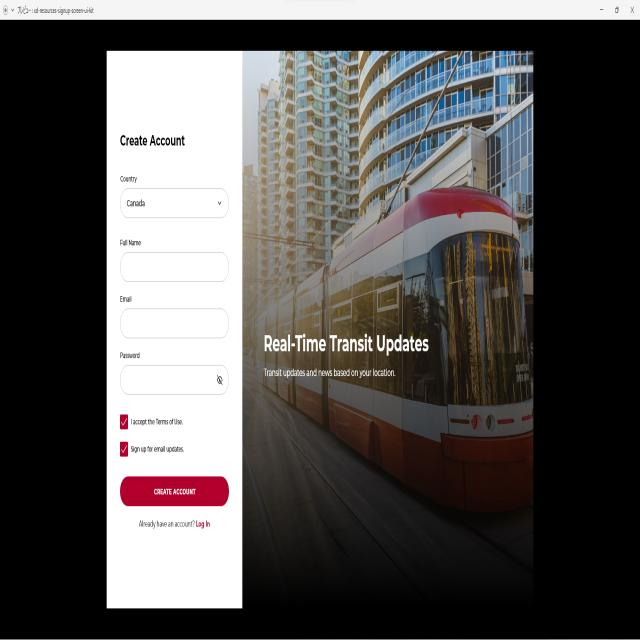checkbox: (118, 440, 130, 460), (119, 414, 128, 431)
